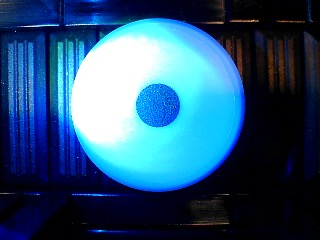BOHO: (70, 16, 246, 192)
